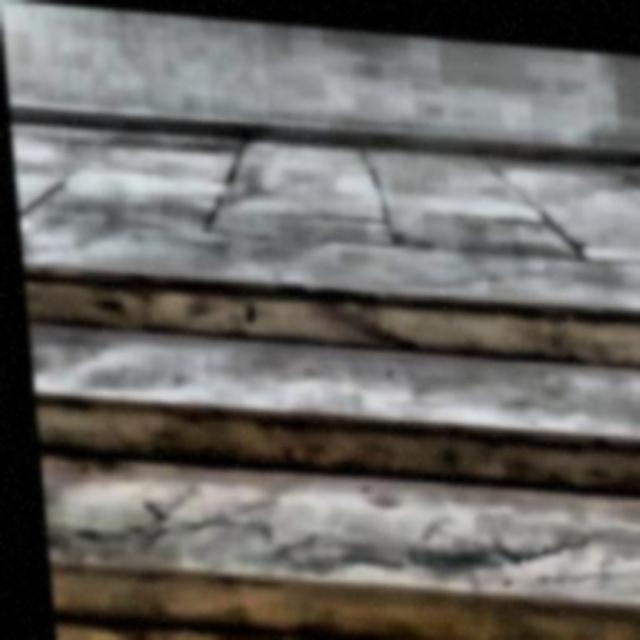stair: (16, 250, 638, 638)
